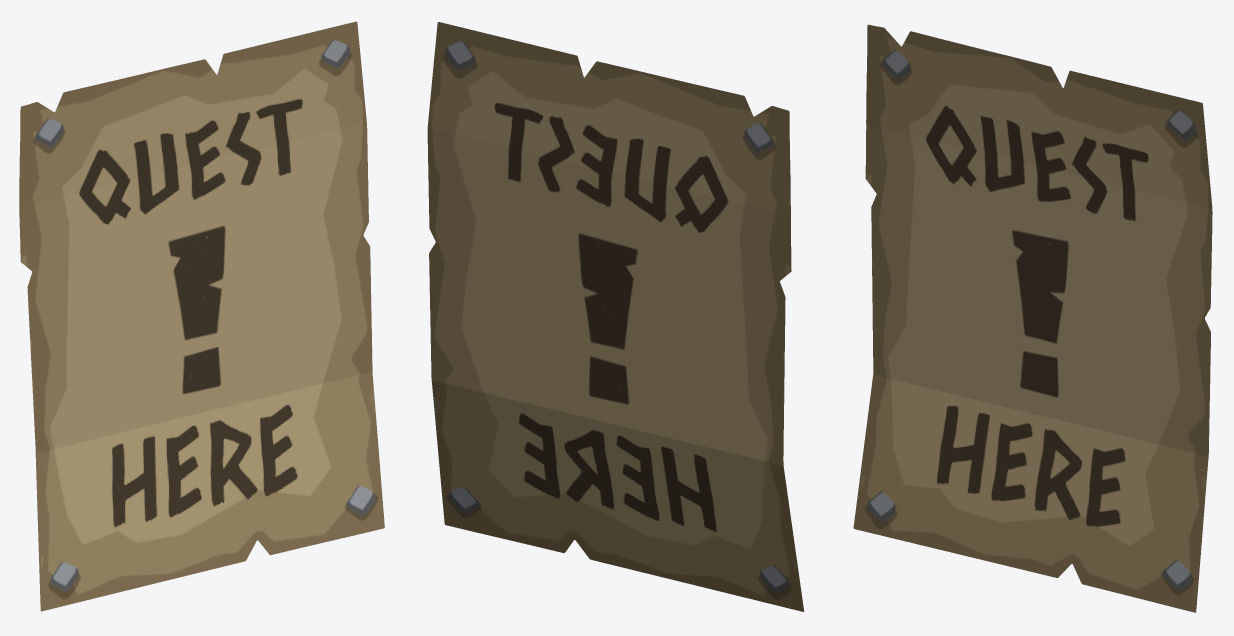
File: SM_Prop_Quest_Poster_01.fbx
3 renders of one model, left to right at view 1: azimuth 30°, elevation 25°; view 2: azimuth 150°, elevation 25°; view 3: azimuth 330°, elevation 25°, orthographic. The views are drawn at different scales.
Parts seen in each view (by area): view 1: SM_Prop_Quest_Poster_01; view 2: SM_Prop_Quest_Poster_01; view 3: SM_Prop_Quest_Poster_01.
Boxes of the visible parts, box(x1,y1,x2,y2) form: SM_Prop_Quest_Poster_01: box(19, 21, 384, 611); SM_Prop_Quest_Poster_01: box(427, 22, 804, 611); SM_Prop_Quest_Poster_01: box(853, 24, 1212, 612).
Bounding box in the file's own units: 35.16 × 47.57 × 3.01.
Materials: 1 (1 with a texture image).
